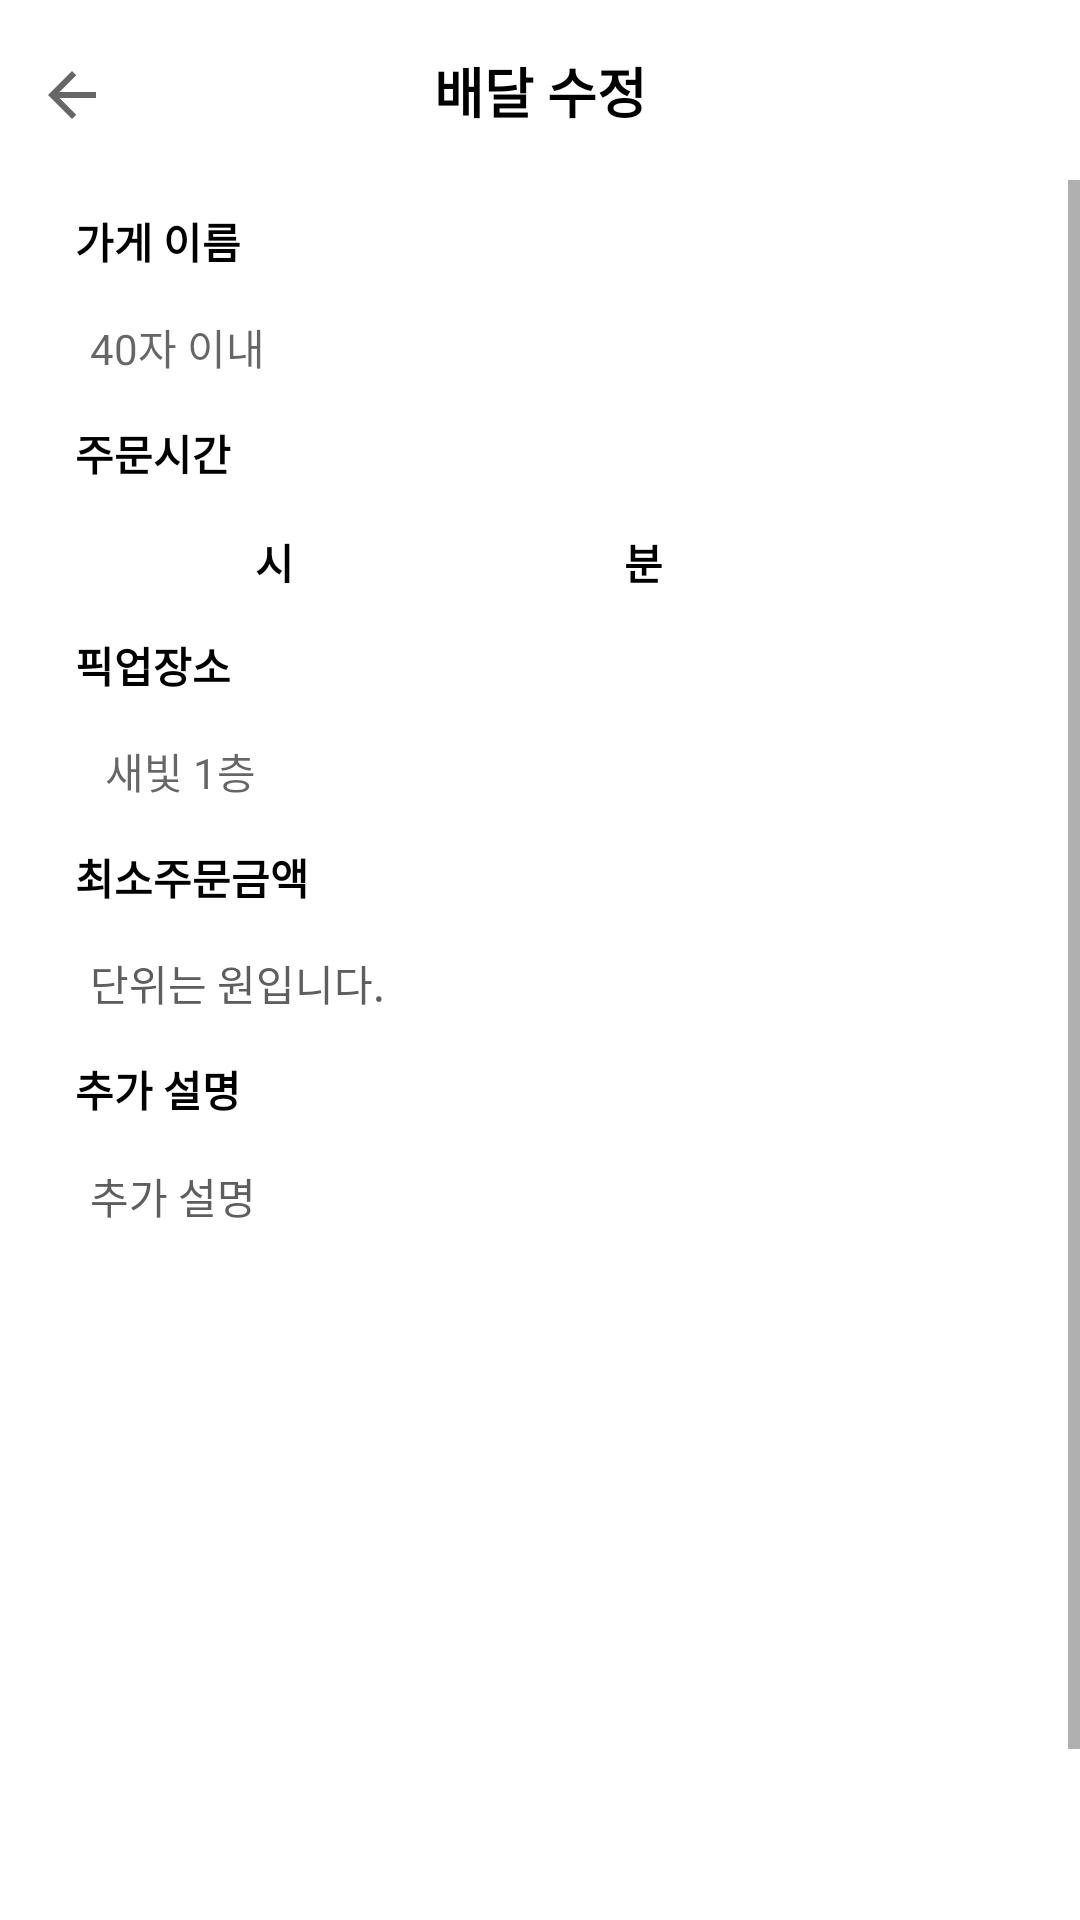

Screen size 1080w x 1920h. Icon name, then its center in pixels as [x,y]:
arrow back: [72,95]
